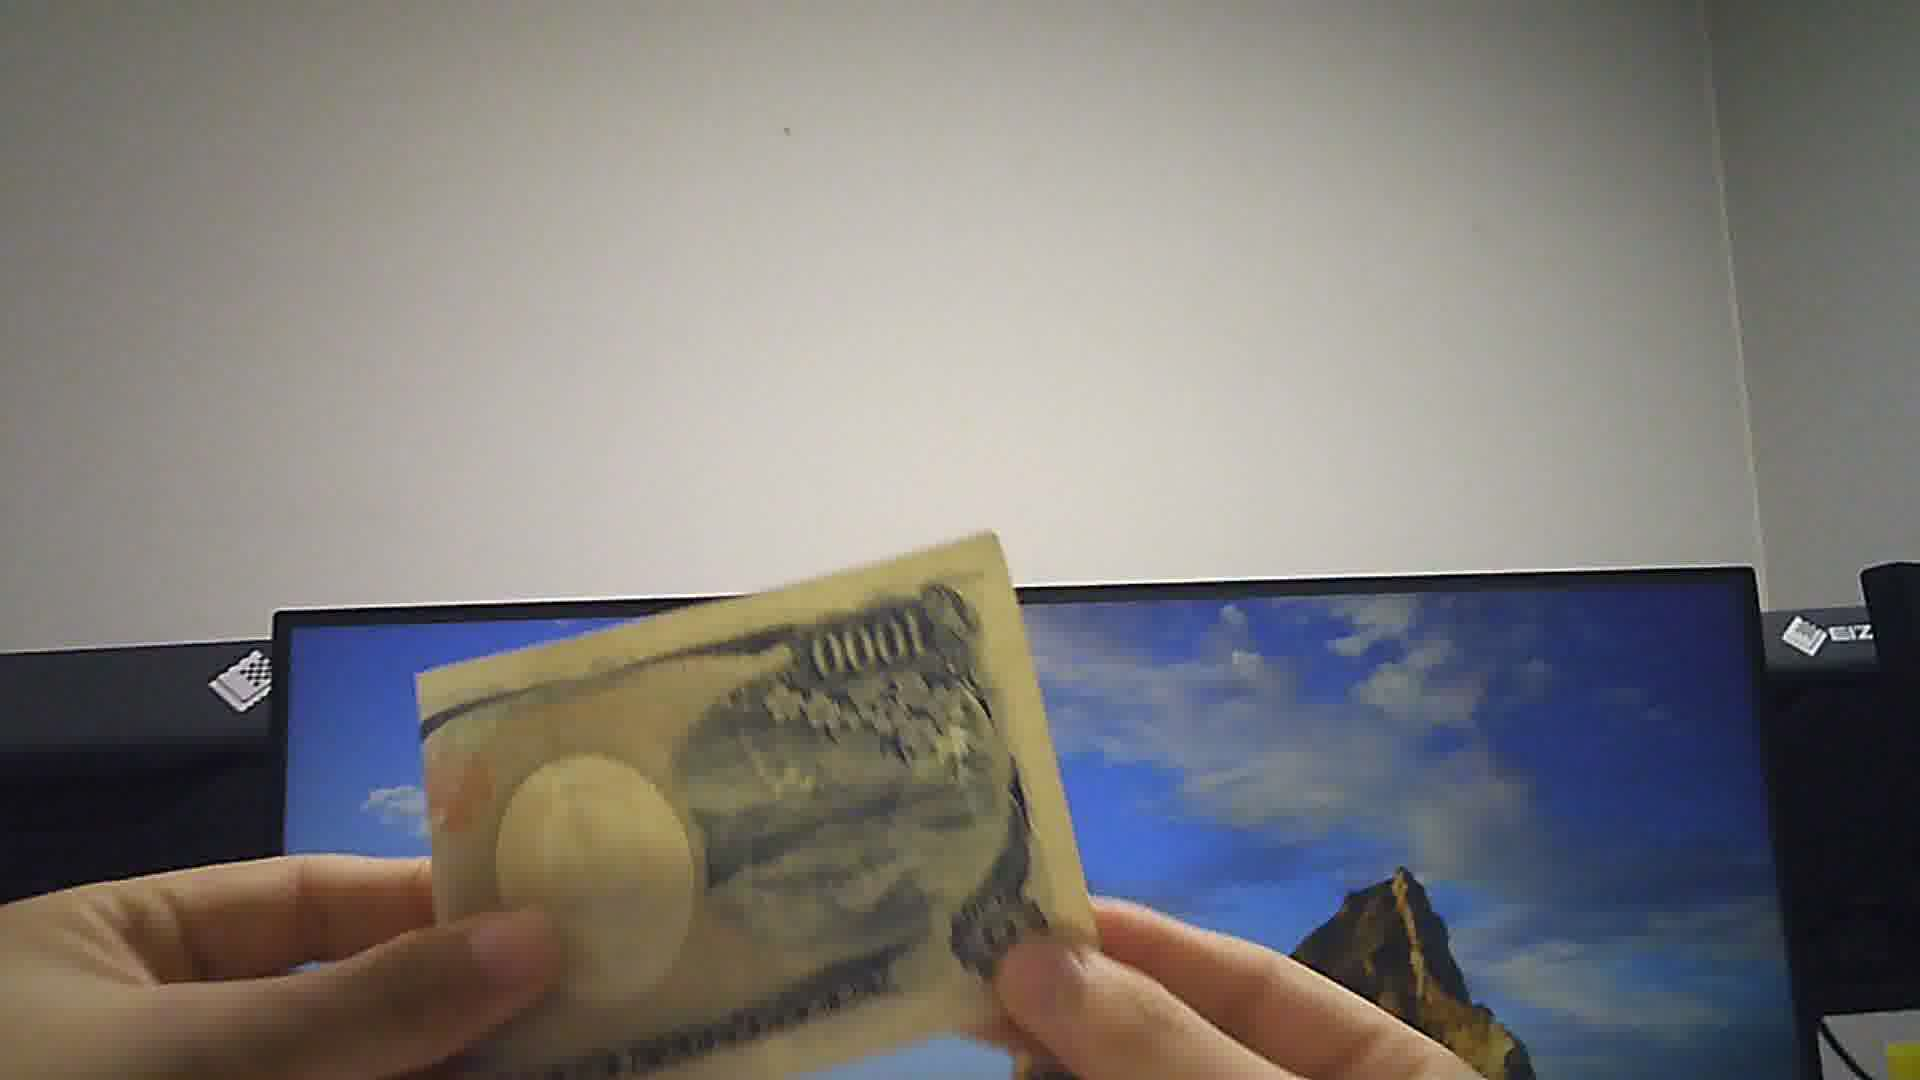1,000 Yen: (402, 555, 1088, 1075)
